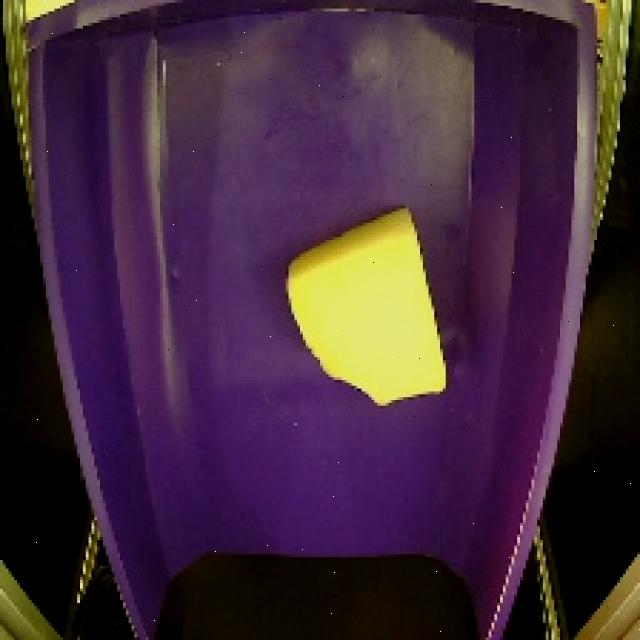potato: (278, 204, 466, 416)
